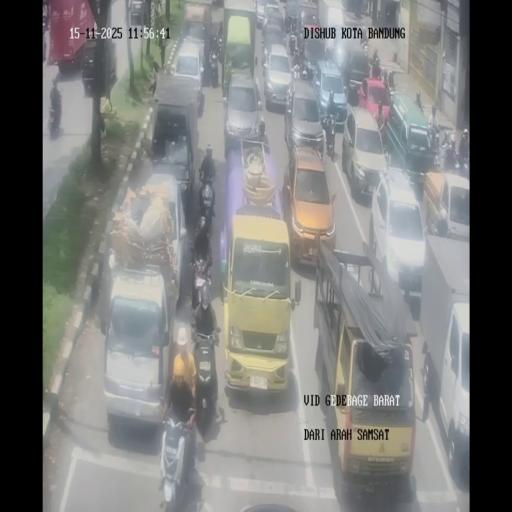3: (314, 242, 417, 504), (420, 236, 469, 477), (46, 0, 96, 72)
car: (222, 213, 294, 397), (102, 267, 174, 430), (370, 165, 425, 296), (134, 172, 189, 298), (282, 144, 336, 268), (385, 93, 438, 188), (343, 102, 387, 200), (223, 72, 265, 154), (423, 169, 469, 242), (284, 79, 325, 156), (170, 40, 205, 109), (82, 38, 118, 99), (262, 43, 293, 110), (343, 48, 371, 103), (182, 0, 212, 48), (262, 4, 286, 36), (300, 13, 320, 45), (128, 0, 148, 27), (284, 0, 300, 31), (255, 0, 266, 27)
truck: (158, 408, 199, 507), (193, 345, 220, 430), (190, 251, 214, 316), (196, 180, 216, 231), (440, 143, 460, 174), (47, 98, 61, 139), (223, 55, 234, 100), (148, 60, 160, 97), (426, 124, 440, 154), (325, 124, 336, 161), (299, 58, 314, 80), (209, 56, 219, 88), (215, 27, 224, 62), (457, 154, 469, 180), (296, 36, 305, 68), (288, 31, 298, 58), (387, 69, 397, 92), (372, 60, 382, 79), (362, 38, 369, 58), (262, 46, 268, 69)
